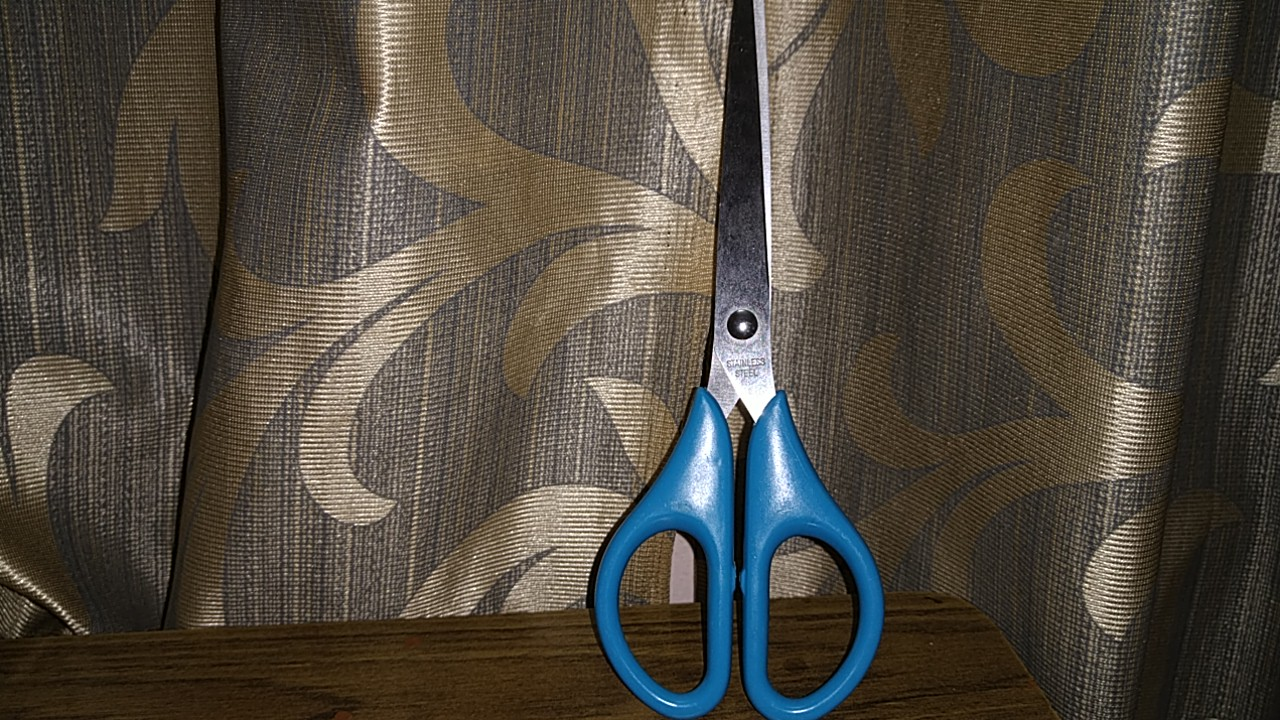scissor: (577, 4, 898, 720)
